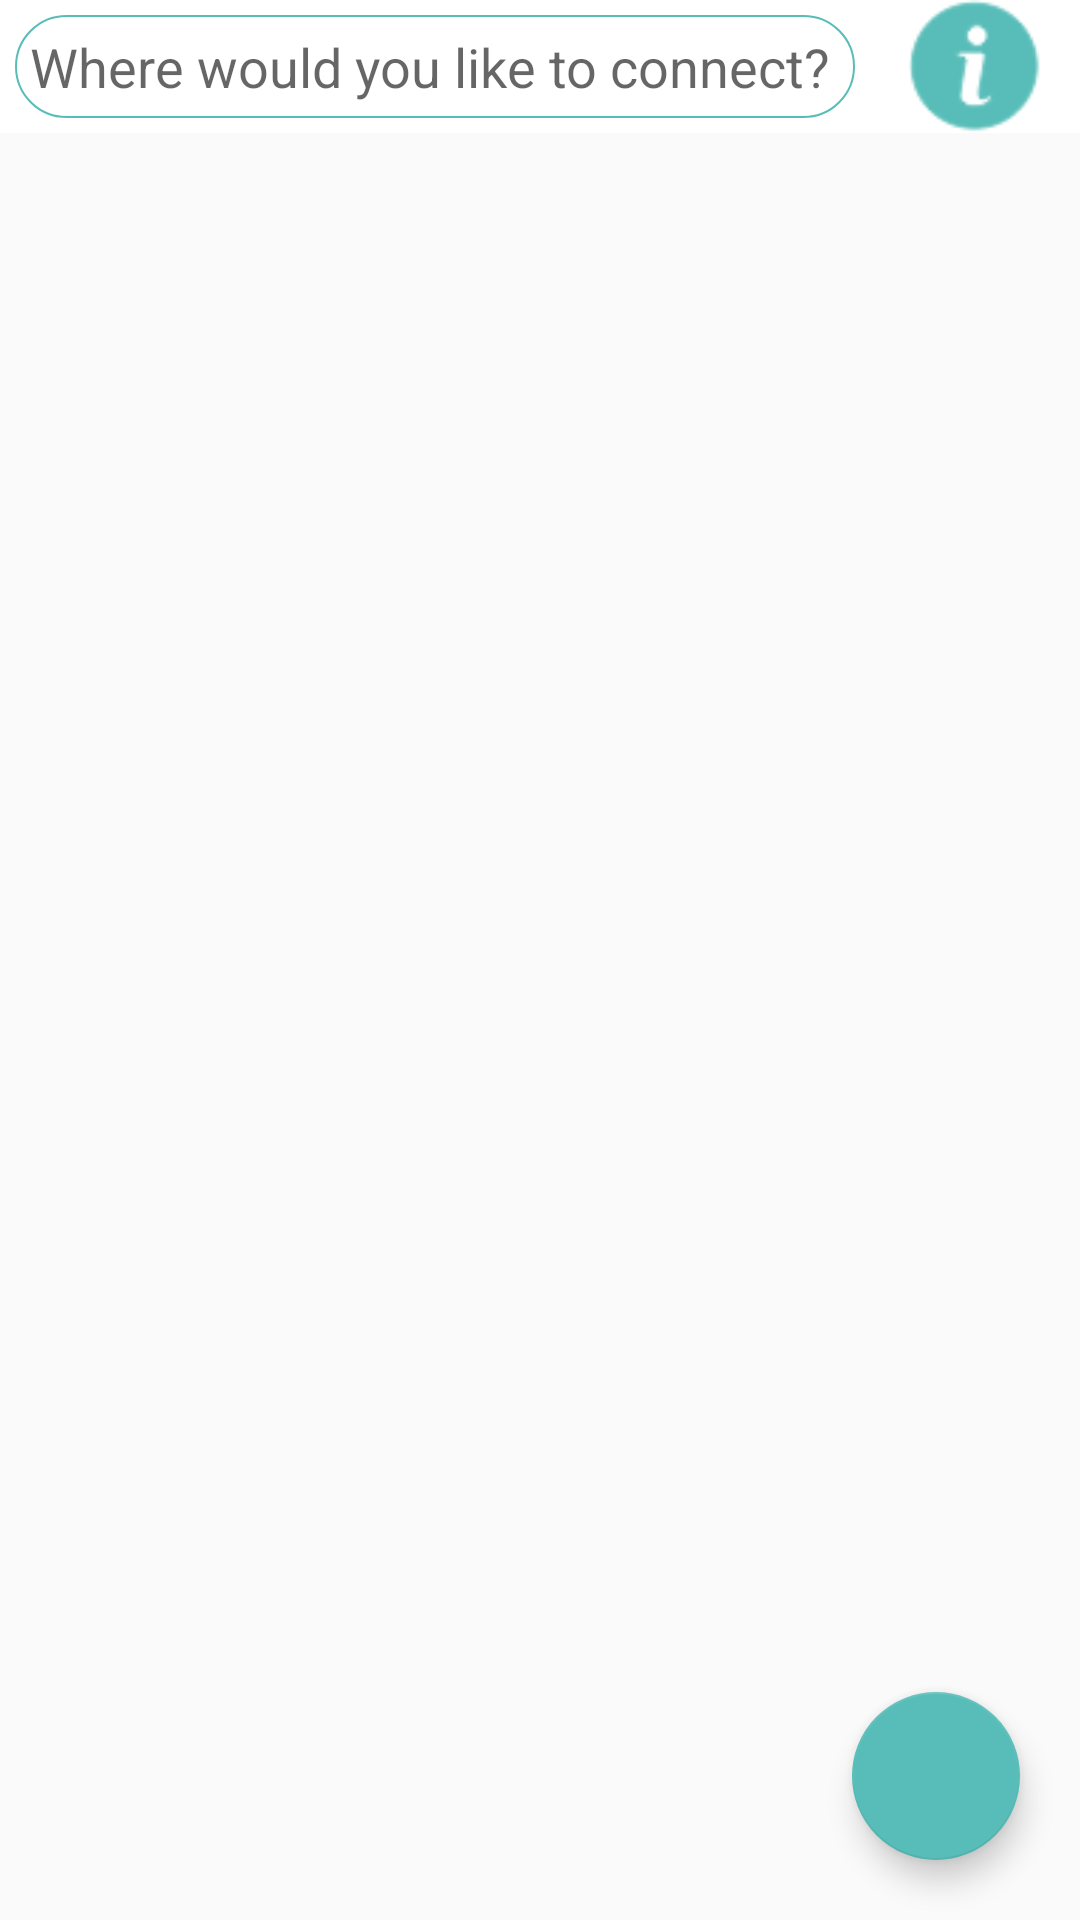

Point at icon controls on the screen. Image size 1080px×1920px, points as point (x, y).
info: point (974, 66)
